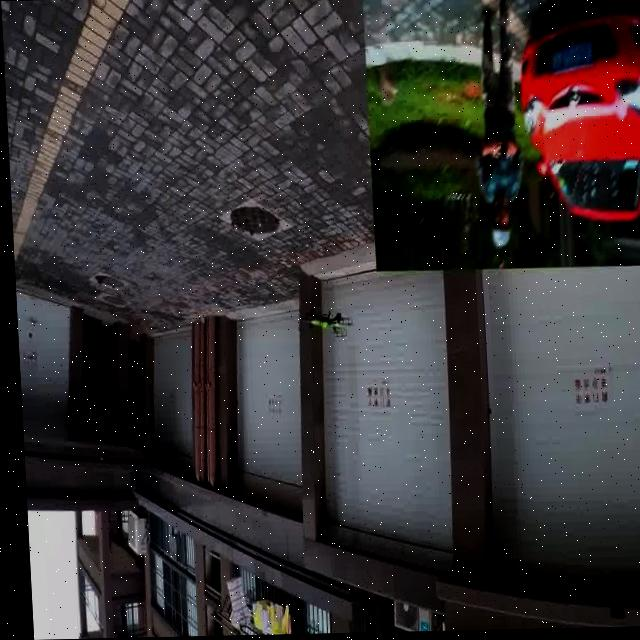drone: (298, 306, 347, 348)
